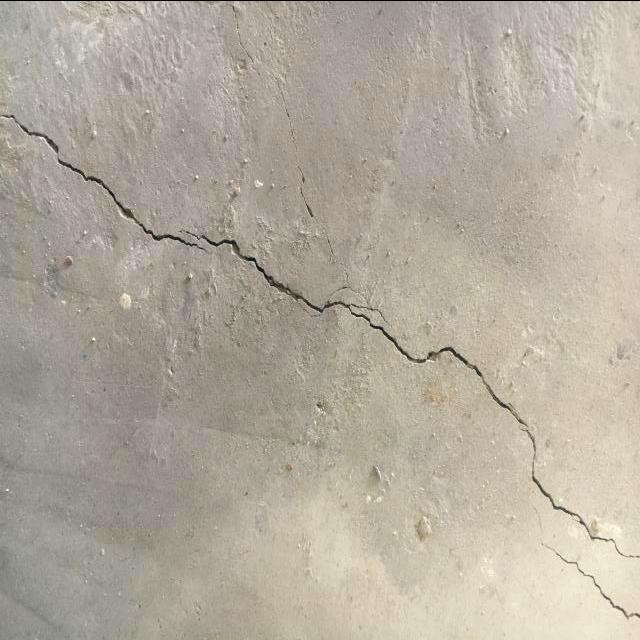SurfaceCrack: (1, 61, 640, 639)
